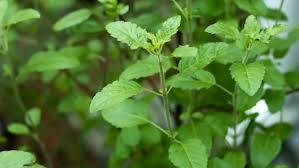healthy_leaf: (7, 6, 299, 168)
